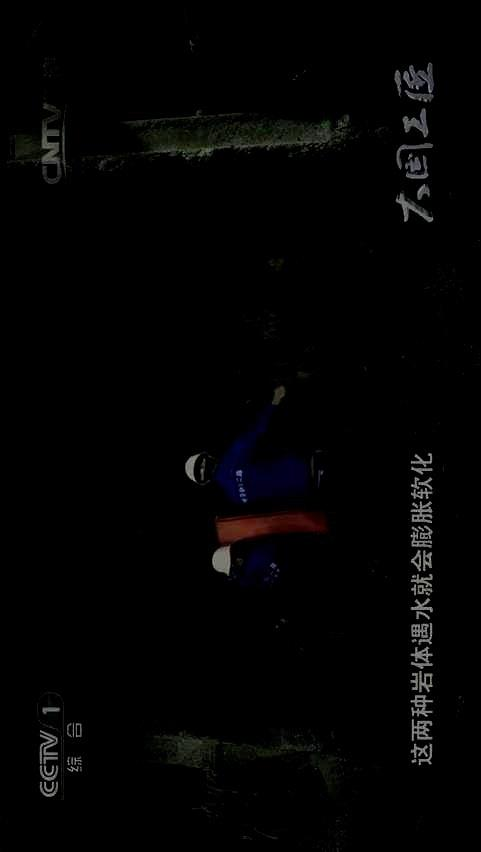helmet: (212, 545, 244, 577), (184, 453, 212, 486)
